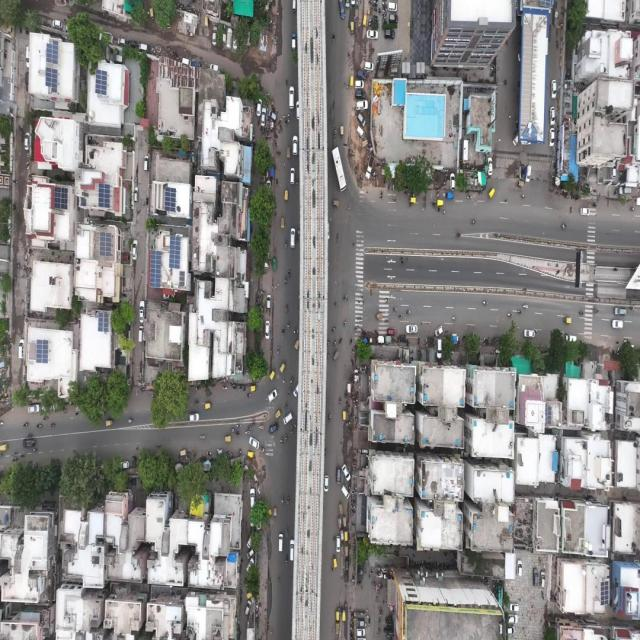3W: (342, 554, 351, 575), (560, 314, 574, 327), (278, 214, 286, 234), (246, 446, 257, 460), (435, 198, 446, 212), (273, 406, 282, 422), (337, 124, 346, 140), (342, 545, 351, 560), (203, 399, 213, 412), (348, 72, 355, 90), (343, 572, 349, 592), (407, 195, 417, 207), (488, 187, 497, 200), (293, 337, 300, 353), (149, 7, 156, 23), (332, 558, 341, 570), (334, 606, 341, 621), (284, 189, 290, 205), (179, 445, 186, 458), (333, 624, 340, 637), (343, 530, 349, 545), (249, 383, 257, 394), (280, 360, 286, 374), (341, 408, 347, 422), (105, 419, 114, 428), (223, 434, 232, 443), (338, 503, 343, 518), (0, 444, 9, 452), (342, 517, 348, 529), (268, 370, 275, 380), (333, 349, 338, 363), (342, 610, 348, 620)
Bus: (330, 144, 346, 194)
Cars: (128, 238, 140, 262), (21, 41, 31, 69), (276, 531, 286, 556), (382, 25, 395, 44), (287, 161, 296, 188), (612, 304, 628, 319), (563, 329, 577, 346), (286, 83, 294, 112), (16, 335, 24, 363), (618, 183, 634, 197), (523, 163, 533, 185), (340, 481, 350, 502), (522, 326, 536, 341), (405, 323, 420, 337), (336, 0, 346, 21), (357, 107, 367, 128), (289, 224, 297, 250), (549, 104, 557, 130), (342, 462, 351, 485), (282, 410, 294, 427), (259, 102, 266, 131), (225, 21, 232, 50), (136, 321, 144, 346), (610, 316, 624, 330), (354, 98, 368, 112), (486, 157, 494, 180), (265, 390, 278, 404), (516, 554, 523, 580), (366, 29, 380, 42), (249, 433, 261, 448), (355, 121, 364, 140), (434, 322, 444, 339), (22, 436, 36, 448), (506, 602, 520, 614), (292, 130, 298, 158), (143, 151, 150, 175), (388, 12, 399, 27), (243, 598, 252, 616), (532, 563, 538, 590), (212, 23, 218, 50), (249, 485, 256, 508), (324, 473, 331, 496), (290, 31, 296, 57), (138, 38, 150, 51), (356, 626, 367, 640), (268, 423, 279, 437), (548, 128, 555, 150), (266, 110, 277, 124), (139, 300, 144, 330), (540, 568, 546, 593), (265, 320, 272, 341), (187, 413, 203, 422), (436, 338, 442, 362), (506, 612, 518, 624), (578, 204, 590, 216), (386, 325, 397, 338), (208, 60, 219, 73), (52, 15, 63, 28), (133, 184, 140, 204), (348, 17, 355, 36), (355, 88, 366, 100), (116, 33, 128, 44), (24, 130, 30, 152), (26, 404, 40, 413), (265, 292, 272, 310), (551, 78, 557, 99), (25, 69, 30, 94), (118, 457, 130, 467), (246, 558, 254, 573), (336, 466, 342, 486), (272, 255, 278, 275), (256, 100, 262, 120), (179, 56, 192, 65), (450, 169, 455, 192), (246, 548, 254, 562), (290, 536, 294, 564), (388, 0, 398, 11), (125, 38, 136, 48), (362, 61, 374, 70), (358, 69, 367, 81), (353, 79, 365, 88), (335, 534, 340, 555), (295, 101, 299, 127), (294, 381, 299, 401), (191, 59, 201, 69), (357, 618, 365, 630), (507, 624, 515, 635), (246, 534, 252, 548), (362, 12, 367, 28)
LCV: (363, 152, 374, 178)
M2W: (593, 304, 603, 321), (521, 302, 533, 316), (281, 428, 290, 446), (282, 553, 290, 573), (221, 382, 231, 398), (281, 299, 290, 316), (284, 315, 293, 332), (275, 118, 283, 136), (340, 291, 350, 305), (282, 237, 290, 254), (481, 296, 490, 310), (290, 323, 299, 337), (330, 28, 337, 46), (561, 218, 569, 232), (287, 370, 294, 386), (22, 419, 32, 430), (288, 382, 294, 399), (286, 108, 292, 125), (577, 307, 586, 318), (352, 320, 359, 334), (516, 304, 522, 320), (278, 324, 286, 336), (260, 446, 268, 458), (198, 430, 206, 442), (337, 334, 344, 347), (273, 176, 280, 189), (505, 310, 515, 319), (331, 298, 340, 308), (329, 324, 338, 334), (279, 493, 285, 508), (452, 230, 462, 239), (125, 415, 133, 426), (391, 301, 398, 313), (279, 435, 285, 449), (228, 421, 235, 433), (469, 218, 478, 227), (154, 439, 163, 448), (357, 306, 362, 322), (274, 345, 280, 358), (44, 410, 50, 423), (384, 294, 391, 305), (405, 307, 413, 316), (398, 310, 404, 322), (327, 333, 331, 351), (287, 264, 291, 282), (234, 422, 242, 431), (328, 409, 332, 426), (342, 318, 347, 331), (333, 127, 337, 142), (452, 312, 457, 323), (35, 423, 44, 429), (286, 494, 290, 506), (284, 116, 288, 128), (327, 349, 330, 364), (283, 275, 286, 290), (338, 394, 341, 408), (50, 424, 56, 431), (628, 206, 635, 212), (258, 424, 264, 430), (332, 336, 336, 344)
